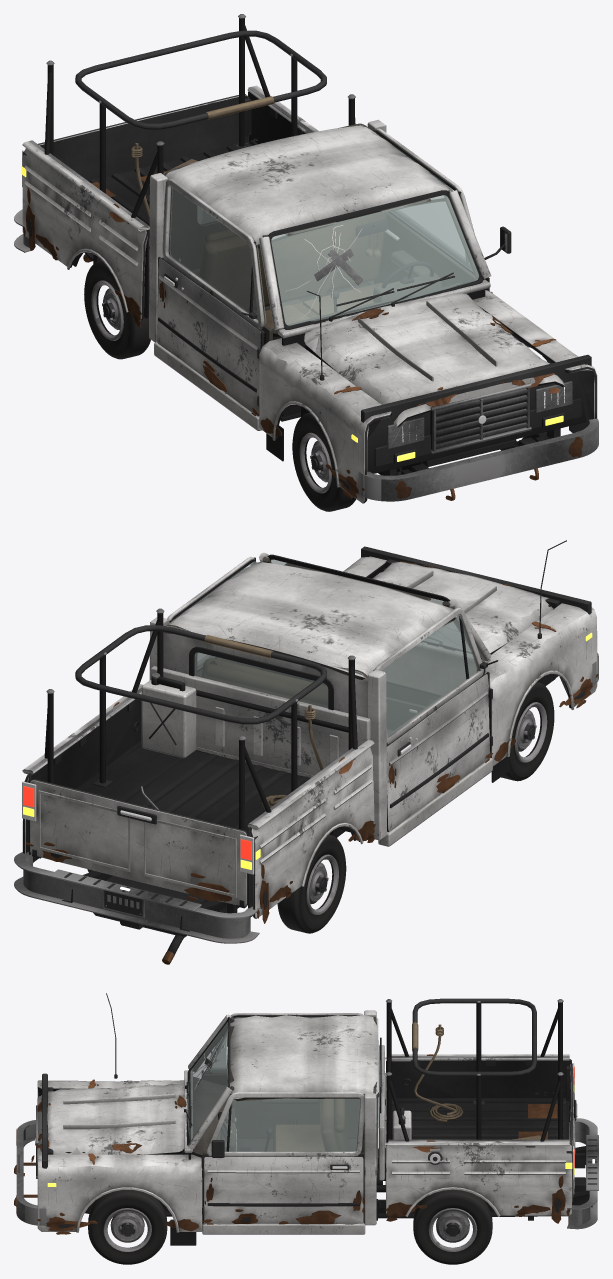
Rendered from dev.glb.
3 renders of one model, top to bottom at view 1: azimuth 30°, elevation 25°; view 2: azimuth 150°, elevation 25°; view 3: azimuth 270°, elevation 25°, orthographic. The views are drawn at different scales.
Parts seen in each view (by area): view 1: body, panel_hood, panel_door_R, panel_fender_R, panel_tailgate, panel_bumper_F, panel_door_L, wheel_RR, panel_fender_L, wheel_FR; view 2: body, panel_door_R, panel_tailgate, panel_fender_R, panel_bumper_R, panel_hood, wheel_RR, wheel_FR, panel_door_L, panel_fender_L; view 3: body, panel_door_L, panel_fender_L, panel_hood, wheel_RL, wheel_FL, panel_bumper_R, panel_bumper_F, panel_door_R, panel_fender_R, panel_tailgate.
Boxes of the visible parts, <box> form: body: <box>21,14,591,500</box>; panel_hood: <box>304,293,564,427</box>; panel_door_R: <box>156,178,266,416</box>; panel_fender_R: <box>251,338,391,503</box>; panel_tailgate: <box>38,94,261,180</box>; panel_bumper_F: <box>358,418,598,501</box>; panel_door_L: <box>375,128,511,292</box>; wheel_RR: <box>84,260,150,359</box>; panel_fender_L: <box>472,290,597,432</box>; wheel_FR: <box>292,412,356,511</box>; body: <box>21,540,591,964</box>; panel_door_R: <box>375,607,498,831</box>; panel_tailgate: <box>26,779,247,908</box>; panel_fender_R: <box>484,603,598,782</box>; panel_bumper_R: <box>14,852,259,943</box>; panel_hood: <box>372,561,553,653</box>; wheel_RR: <box>277,834,346,933</box>; wheel_FR: <box>501,682,554,781</box>; panel_door_L: <box>167,557,256,671</box>; panel_fender_L: <box>343,556,386,578</box>; body: <box>14,993,592,1234</box>; panel_door_L: <box>202,1092,364,1224</box>; panel_fender_L: <box>37,1153,213,1245</box>; panel_hood: <box>31,1083,187,1163</box>; wheel_RL: <box>413,1189,492,1264</box>; wheel_FL: <box>88,1190,167,1264</box>; panel_bumper_R: <box>567,1118,598,1229</box>; panel_bumper_F: <box>16,1120,46,1225</box>; panel_door_R: <box>204,1013,363,1138</box>; panel_fender_R: <box>37,1079,184,1097</box>; panel_tailgate: <box>535,1064,577,1204</box>.
Size of the model in its own units: 2.08 by 1.78 by 4.95.
Materials: 15 (8 with a texture image).
